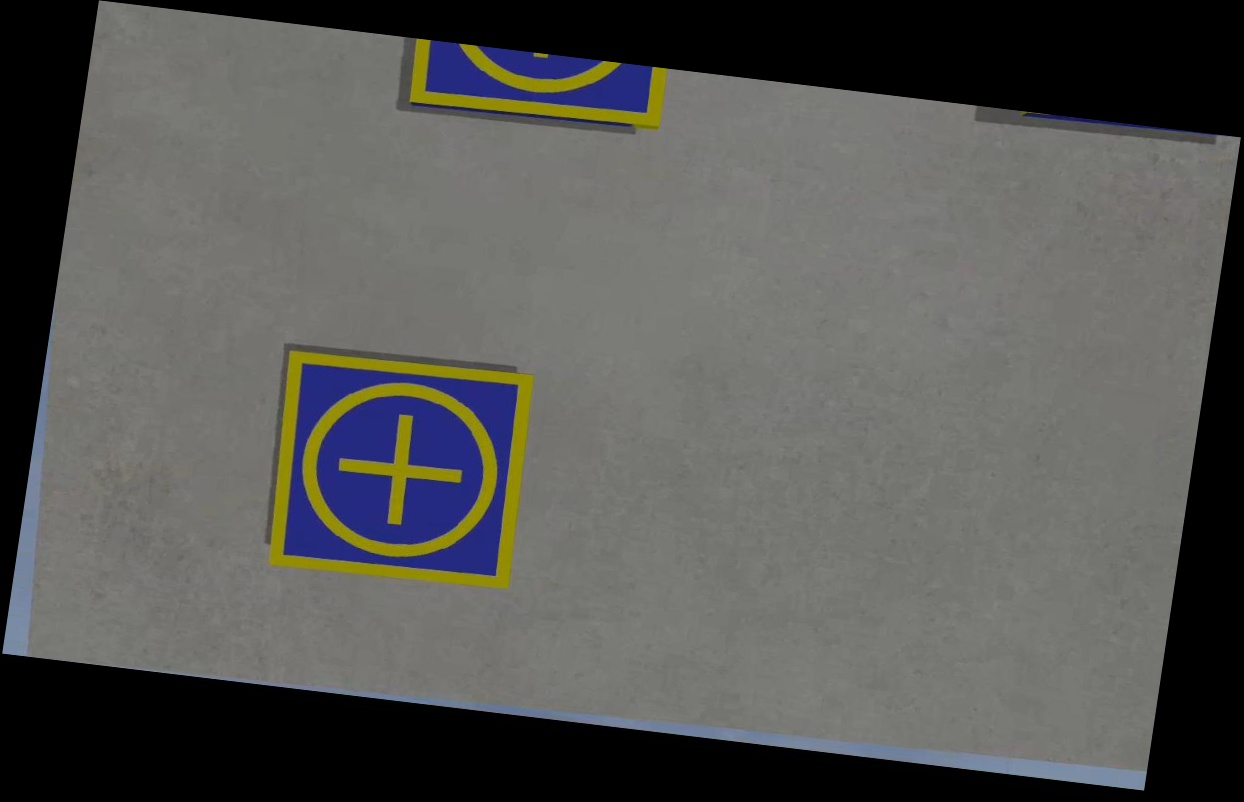small_base: (254, 347, 541, 594), (406, 38, 676, 138)
